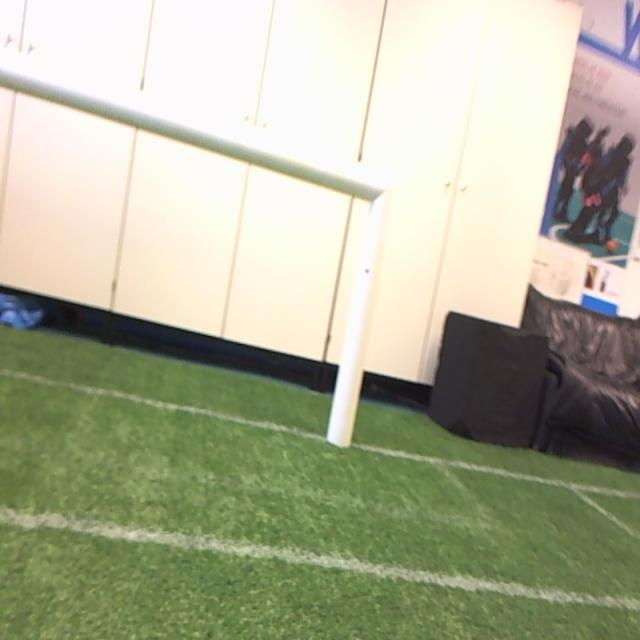goalpost: (325, 182, 393, 448)
